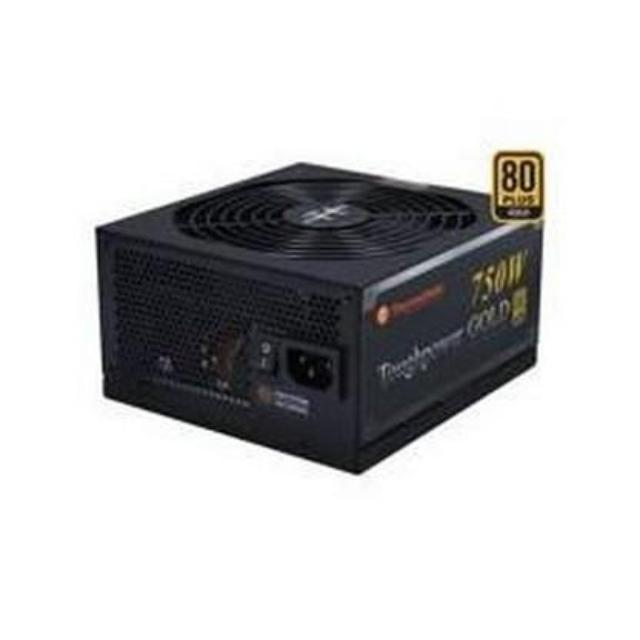PSU: (84, 153, 556, 476)
